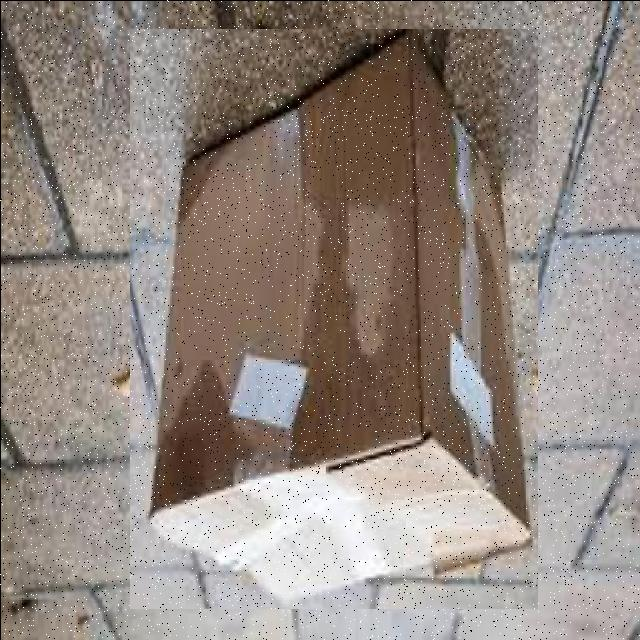defect: (129, 28, 537, 608)
